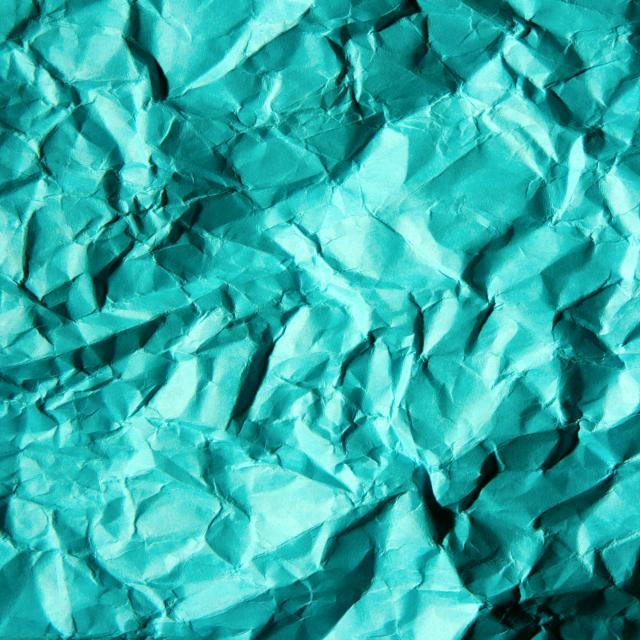paper: (117, 88, 574, 530)
